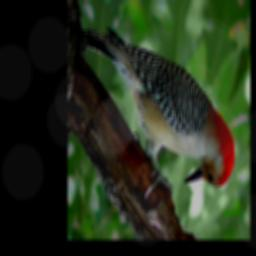Woodpecker: (77, 22, 238, 200)
